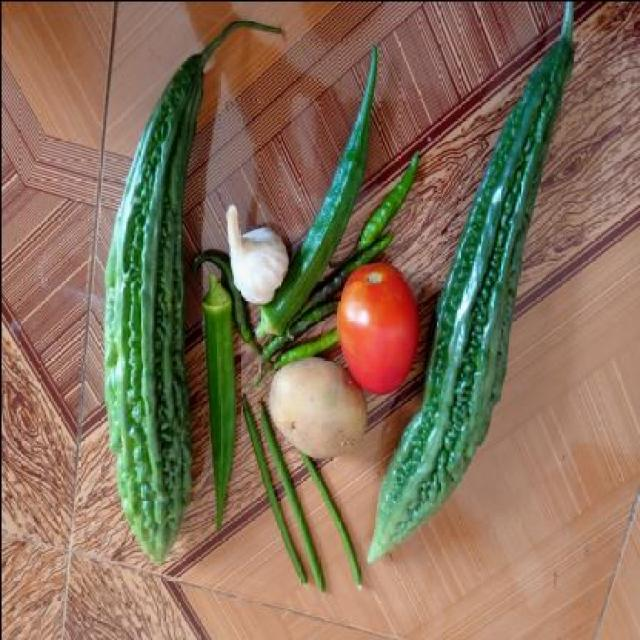Bitter melon: (418, 32, 580, 537), (103, 54, 195, 558)
Garlic: (200, 282, 231, 528), (220, 197, 288, 301)
Potato: (268, 355, 369, 457)
Tomato: (337, 257, 417, 392)
